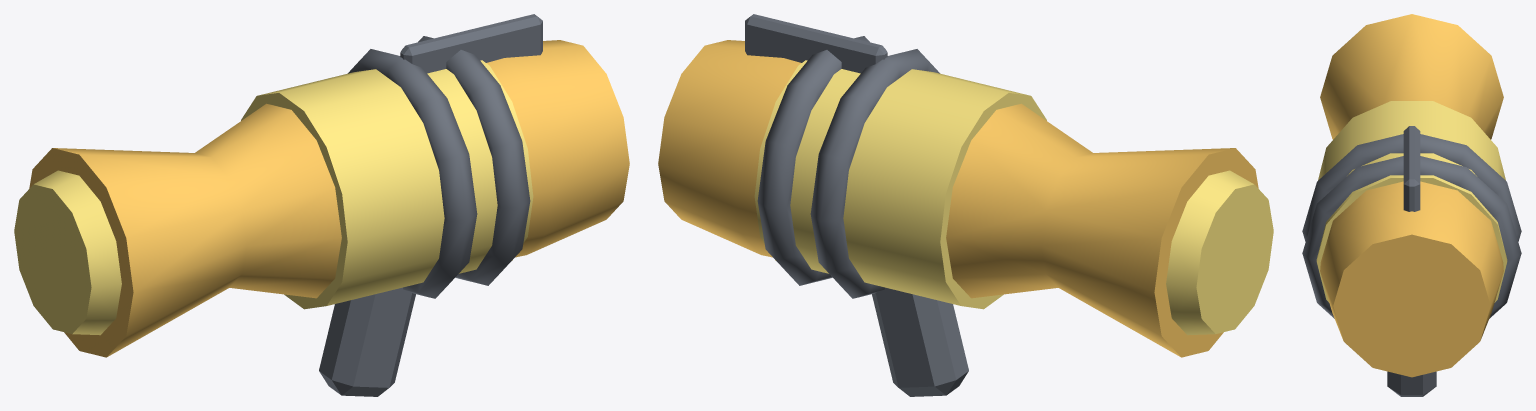
The model's file is ImpactCannon.fbx.
3 views of the same model, side by side, from view 1: azimuth 30°, elevation 25°; view 2: azimuth 150°, elevation 25°; view 3: azimuth 270°, elevation 25° (orthographic). The views are drawn at different scales.
Parts seen in each view (by area): view 1: ImpactCannon; view 2: ImpactCannon; view 3: ImpactCannon.
Part boxes in pixels (left/top/right/bottom): ImpactCannon: left=14, top=14, right=629, bottom=396; ImpactCannon: left=658, top=14, right=1273, bottom=396; ImpactCannon: left=1302, top=14, right=1521, bottom=396.
Size of the model in its own units: 0.95 by 0.5765 by 0.4008.
